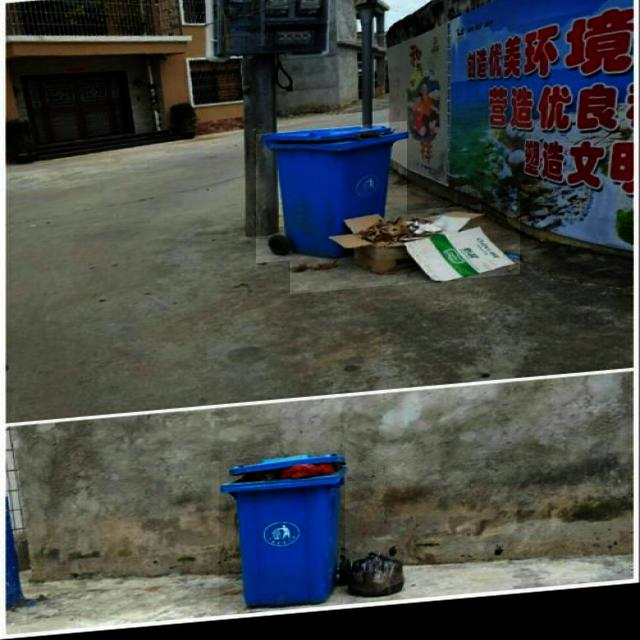garbage: (290, 211, 520, 300), (333, 556, 404, 606)
garbage_bin: (256, 129, 407, 268)
overflow: (219, 456, 345, 616)
